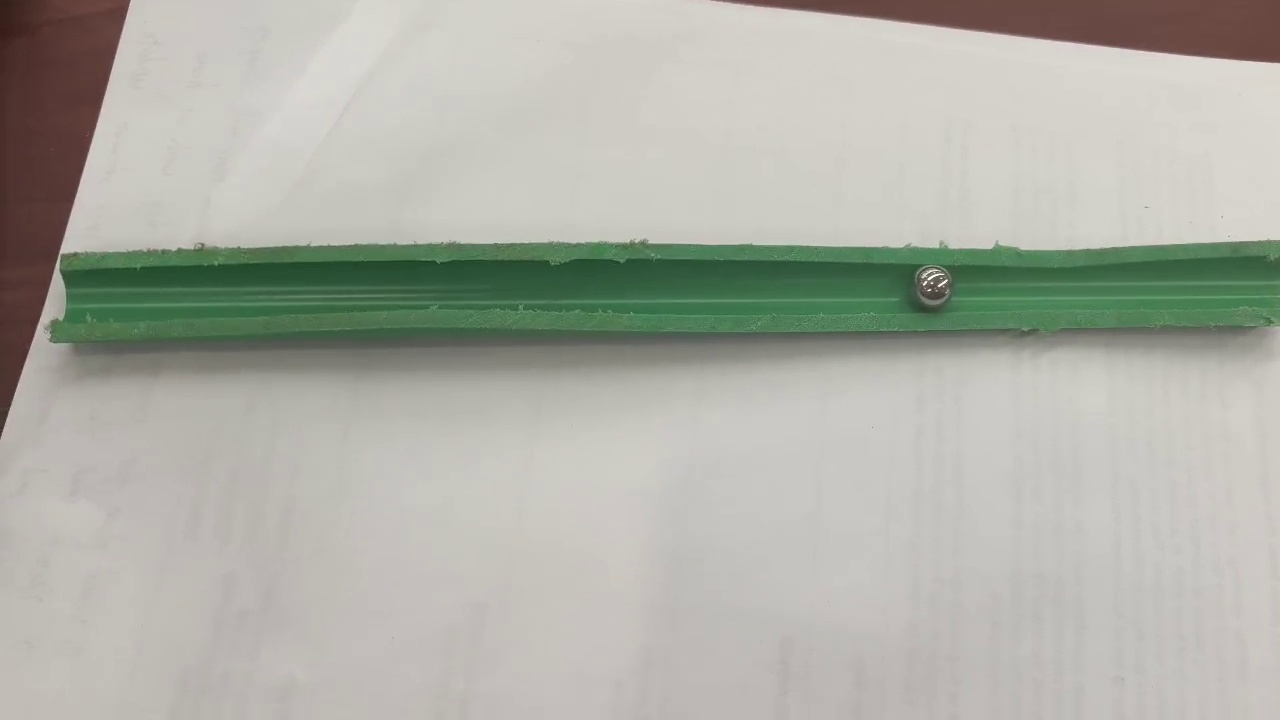ball: (916, 268, 952, 306)
